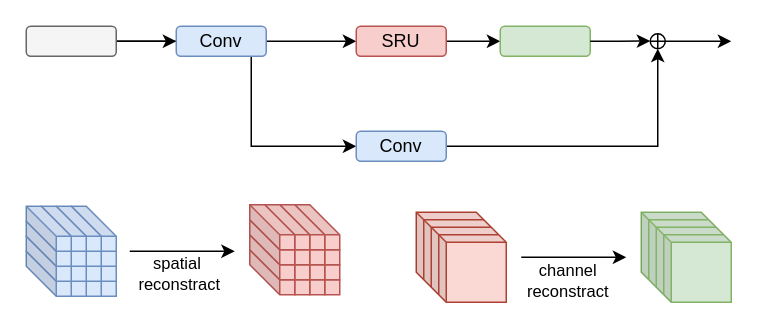
Some shapes in this 770 by 329 pixel diagram are drawn without their labels. The shapes that lost their labels are listed below. From the top down, each one's box as (x1, y1, x2, y2) in pixels, then its label:
(25, 25, 116, 56): Input
(499, 25, 590, 56): CRU
